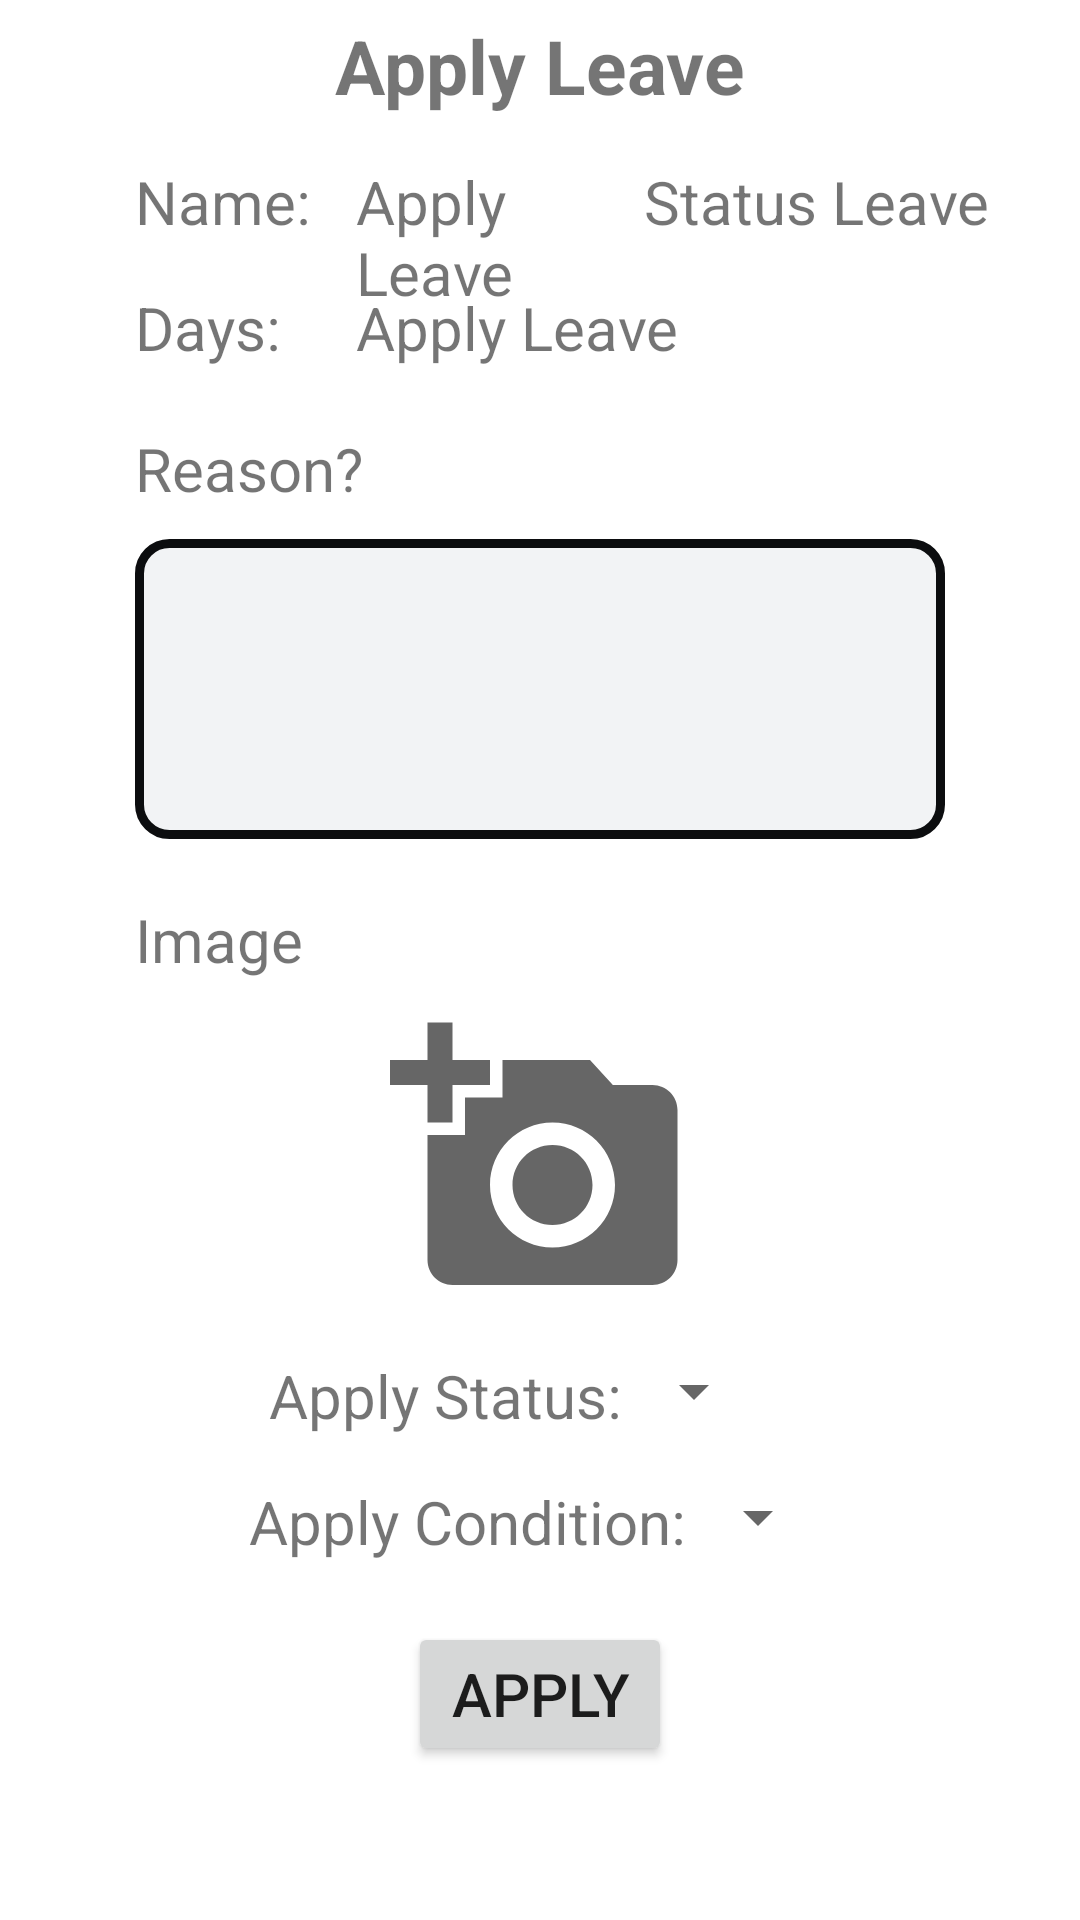

Where to tap for icons on this 1080 x 1920 app screen, as (x,y):
add photo: (534,1153)
